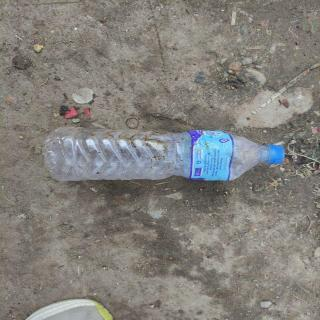Plastic-bottle: (41, 124, 289, 186)
